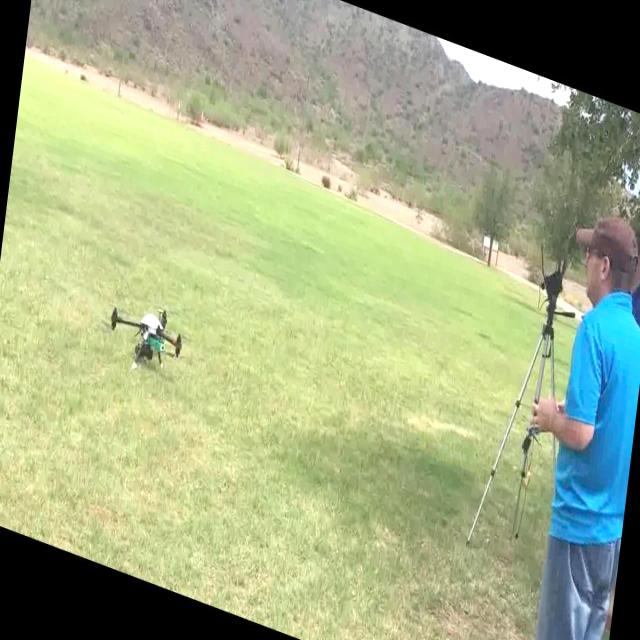drone: (104, 286, 196, 395)
